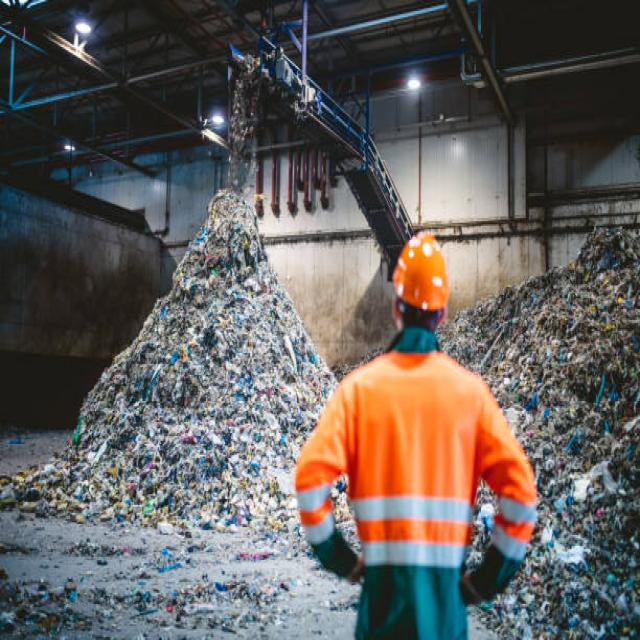plastic: (72, 241, 271, 568)
